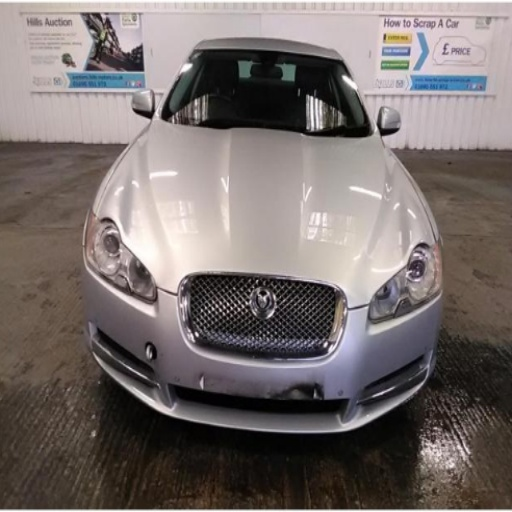dent: (267, 379, 326, 400)
